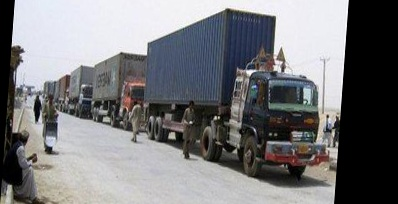truck: (139, 2, 333, 182), (90, 47, 147, 127), (66, 64, 94, 120)
